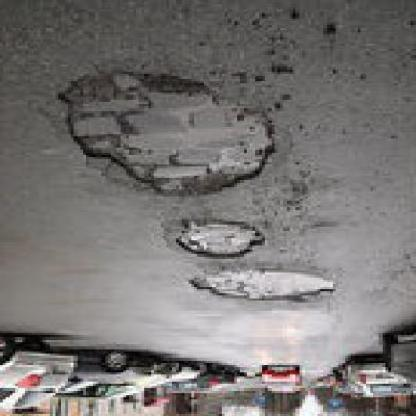pothole: (48, 65, 283, 203), (184, 270, 341, 305), (172, 219, 269, 259)
